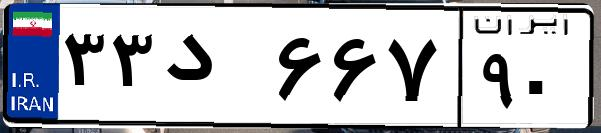0: (525, 38, 570, 115)
3: (57, 26, 110, 100), (110, 28, 158, 98)
6: (270, 28, 330, 110), (330, 28, 385, 110)
7: (385, 28, 445, 110)
9: (475, 38, 525, 113)
د: (158, 20, 270, 120)
